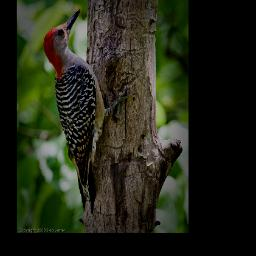Woodpecker: (37, 5, 140, 214)
